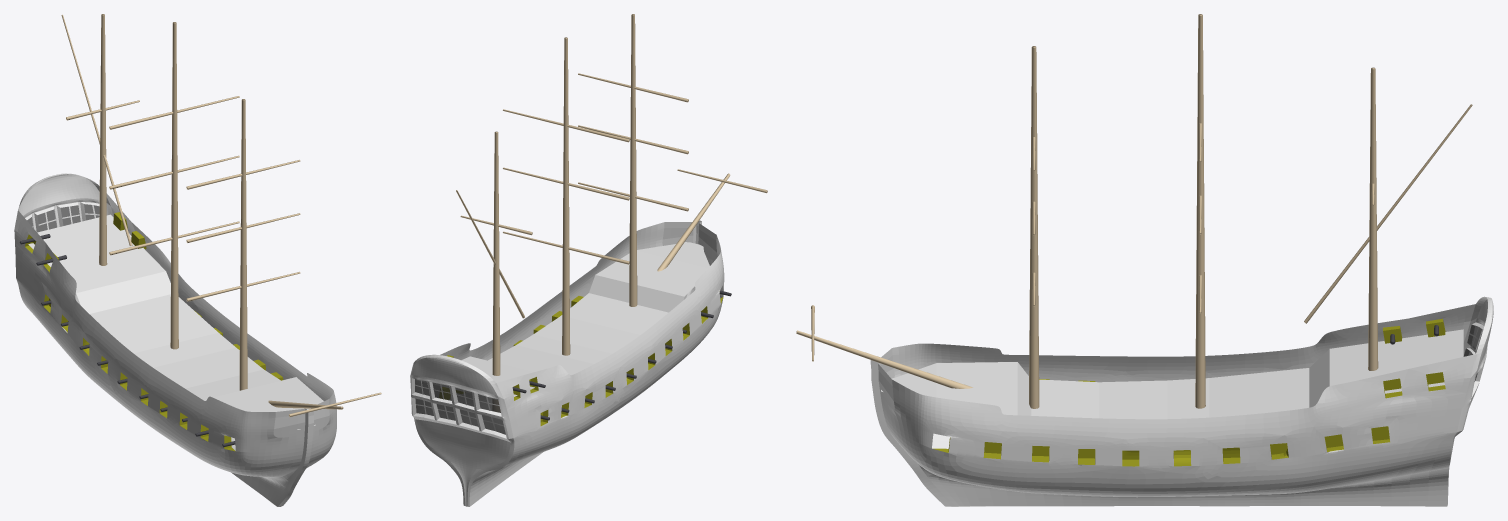
File: hms_roebuck_1690.glb
3 renders of one model, left to right at view 1: azimuth 30°, elevation 25°; view 2: azimuth 150°, elevation 25°; view 3: azimuth 270°, elevation 25°, orthographic. The views are drawn at different scales.
Visible parts, largest first — view 1: Plane, pont, GrandMat, Misaine, Artimon, Antenne; view 2: Plane, pont, GrandMat, Misaine, Artimon, Beaupre; view 3: Plane, pont, GrandMat, Misaine, Artimon, Beaupre, Antenne.
Part boxes in pixels (left/top/right/bottom): Plane: left=14, top=173, right=336, bottom=506; pont: left=28, top=214, right=323, bottom=429; GrandMat: left=109, top=22, right=239, bottom=349; Misaine: left=186, top=99, right=300, bottom=390; Artimon: left=66, top=14, right=139, bottom=265; Antenne: left=61, top=14, right=132, bottom=246; Plane: left=410, top=220, right=724, bottom=506; pont: left=418, top=242, right=709, bottom=399; GrandMat: left=503, top=37, right=629, bottom=355; Misaine: left=578, top=14, right=688, bottom=306; Artimon: left=460, top=131, right=532, bottom=411; Beaupre: left=657, top=173, right=730, bottom=271; Plane: left=870, top=296, right=1493, bottom=506; pont: left=881, top=329, right=1463, bottom=419; GrandMat: left=1195, top=14, right=1205, bottom=408; Misaine: left=1029, top=46, right=1039, bottom=408; Artimon: left=1368, top=67, right=1378, bottom=370; Beaupre: left=796, top=330, right=972, bottom=388; Antenne: left=1304, top=104, right=1472, bottom=323.
Bounding box in the file's own units: 8.55 × 25.68 × 33.1.
